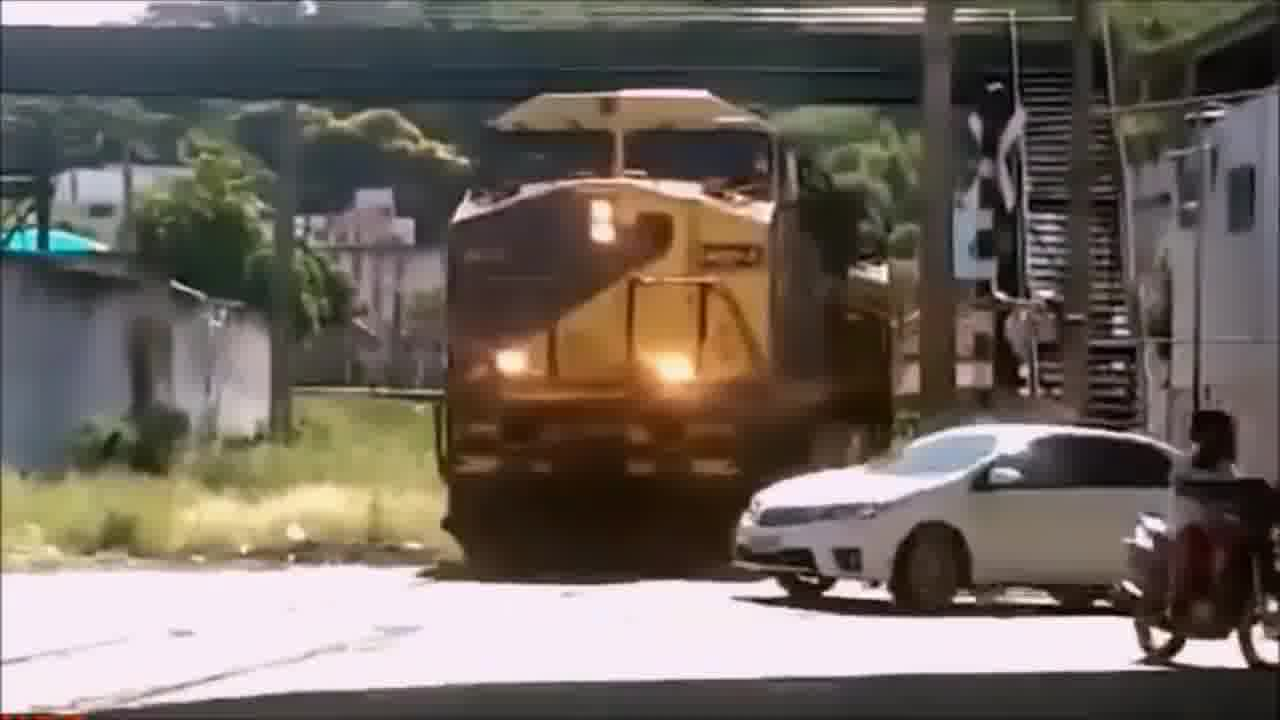crossing railway track: (713, 417, 1271, 617)
